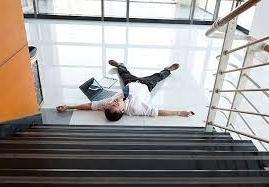fall: (39, 58, 198, 124)
